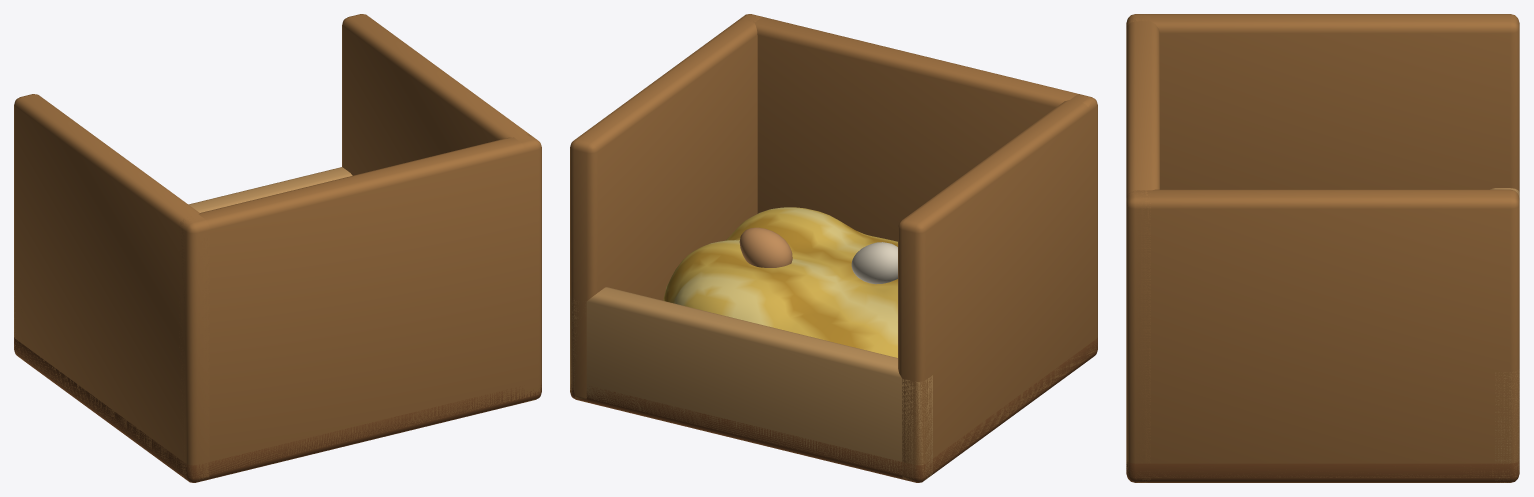
Rendered from nest_box.glb.
3 renders of one model, left to right at view 1: azimuth 30°, elevation 25°; view 2: azimuth 150°, elevation 25°; view 3: azimuth 270°, elevation 25°, orthographic. The views are drawn at different scales.
Visible parts, largest first — view 1: nest_box; view 2: nest_box; view 3: nest_box.
Part boxes in pixels (x1,y1,x2,y2): nest_box: (14, 14, 541, 482); nest_box: (570, 14, 1097, 482); nest_box: (1126, 14, 1519, 482).
Size of the model in its own units: 0.4 by 0.28 by 0.35.
